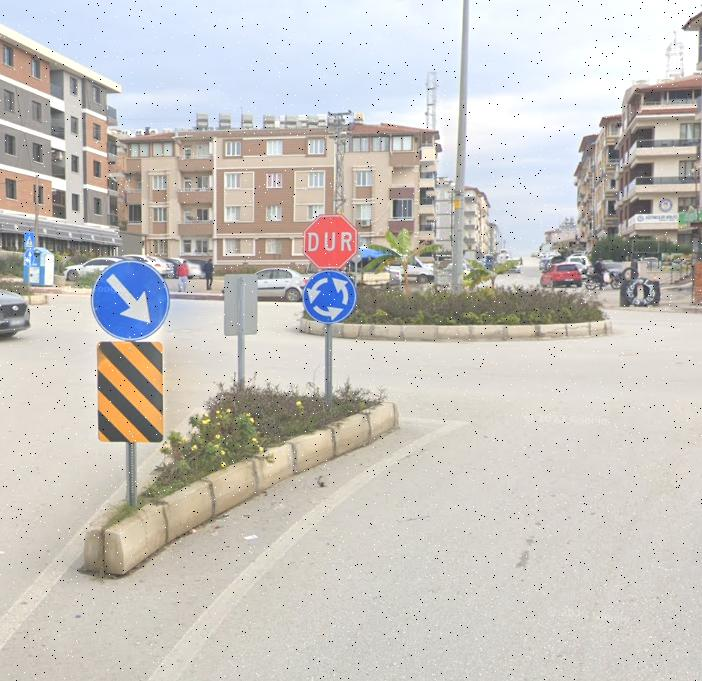crossroads: (302, 270, 354, 323)
stop: (306, 215, 357, 270)
